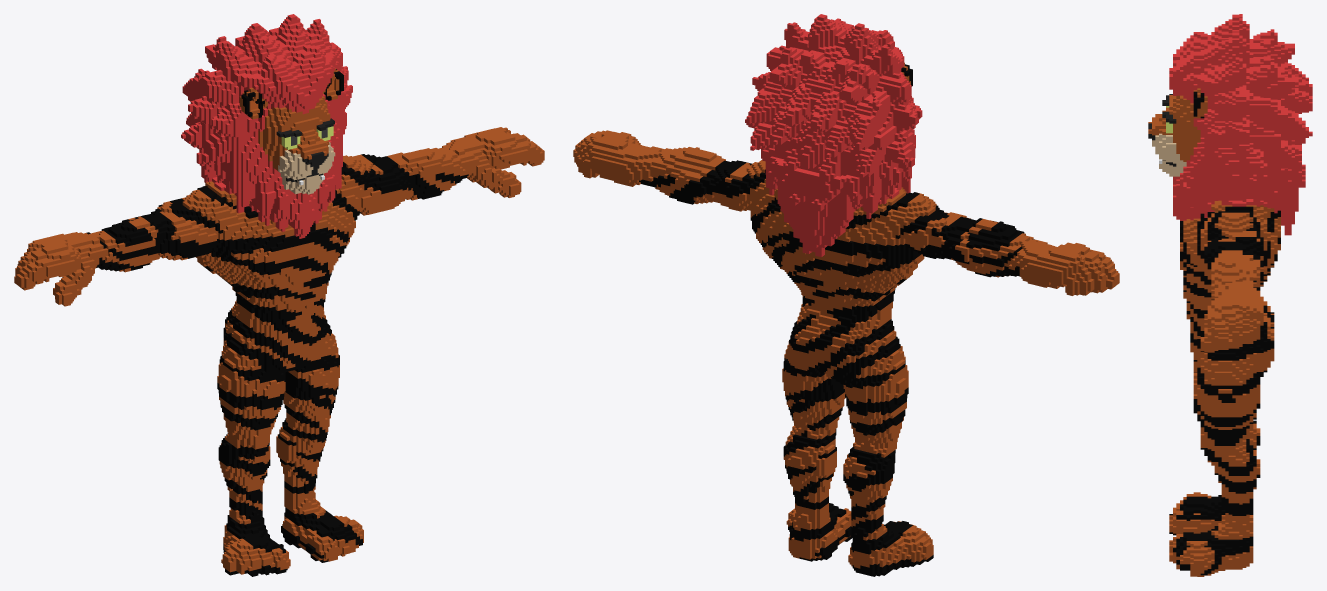
File: 987-BZQsOlrs.glb
3 renders of one model, left to right at view 1: azimuth 30°, elevation 25°; view 2: azimuth 150°, elevation 25°; view 3: azimuth 270°, elevation 25°, orthographic. The views are drawn at different scales.
Parts seen in each view (by area): view 1: standard; view 2: standard; view 3: standard.
Boxes of the visible parts, <box> form: standard: <box>14,14,544,576</box>; standard: <box>573,14,1119,576</box>; standard: <box>1148,14,1312,576</box>.
Bounding box in the file's own units: 17.2 × 16.5 × 4.7.
Materials: 4 (4 with a texture image).
